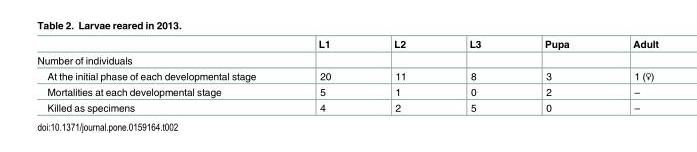table: (36, 37, 657, 113)
table column: (36, 37, 286, 113), (512, 37, 600, 113), (361, 37, 437, 113), (286, 37, 361, 113), (437, 37, 512, 113), (600, 37, 657, 113)
table column header: (36, 37, 657, 51)
table projected row header: (36, 51, 657, 67)
table row: (36, 51, 657, 67), (36, 67, 657, 83), (36, 83, 657, 99), (36, 37, 657, 51), (36, 99, 657, 113)
